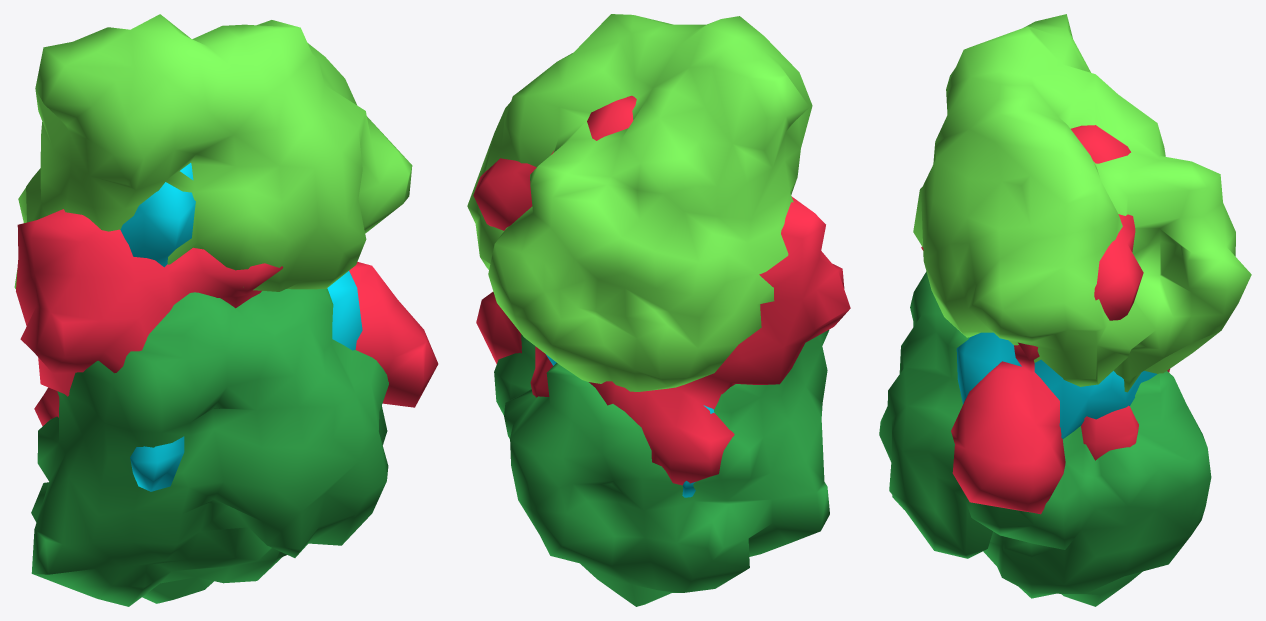
The model's file is cyto_pdb.glb.
The picture shows the model from 3 angles, left to right: view 1: azimuth 30°, elevation 25°; view 2: azimuth 150°, elevation 25°; view 3: azimuth 270°, elevation 25°; orthographic projection. The views are drawn at different scales.
Visible parts, largest first — view 1: tub_alpha, tub_beta, actin_mono, kin_head; view 2: tub_beta, tub_alpha, actin_mono; view 3: tub_beta, tub_alpha, actin_mono, kin_head.
Boxes of the visible parts, <box> form: tub_alpha: <box>31,288,388,606</box>; tub_beta: <box>14,14,412,291</box>; actin_mono: <box>16,209,438,426</box>; kin_head: <box>120,163,362,491</box>; tub_beta: <box>467,14,812,391</box>; tub_alpha: <box>494,330,829,606</box>; actin_mono: <box>473,95,850,485</box>; tub_beta: <box>913,14,1251,392</box>; tub_alpha: <box>879,271,1211,606</box>; actin_mono: <box>921,125,1169,514</box>; kin_head: <box>956,332,1157,438</box>.
Size of the model in its own units: 6.96 by 10.47 by 6.41.
